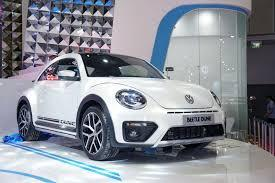volkswagen: (184, 94, 196, 107)
